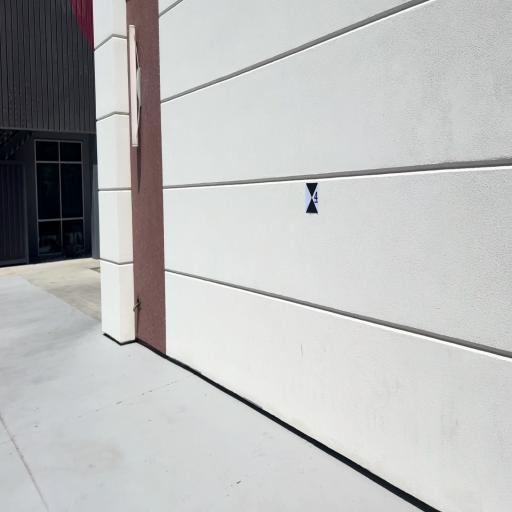target4: (306, 182, 319, 214)
